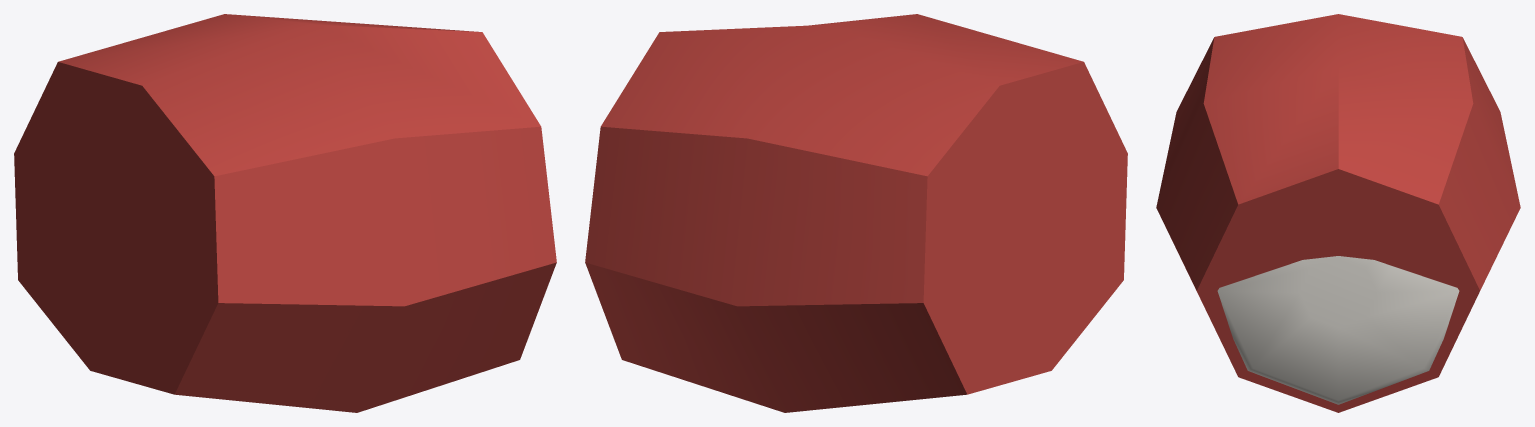
Rendered from nacelle_lod2.glb.
3 views of the same model, side by side, from view 1: azimuth 30°, elevation 25°; view 2: azimuth 150°, elevation 25°; view 3: azimuth 270°, elevation 25° (orthographic). The views are drawn at different scales.
Parts seen in each view (by area): view 1: nacelle_lod2; view 2: nacelle_lod2; view 3: nacelle_lod2.
Part boxes in pixels (x1,y1,x2,y2): nacelle_lod2: (14, 14, 556, 412); nacelle_lod2: (585, 14, 1127, 412); nacelle_lod2: (1156, 14, 1520, 412).
Bounding box in the file's own units: 2.66 × 2.4 × 2.7.
